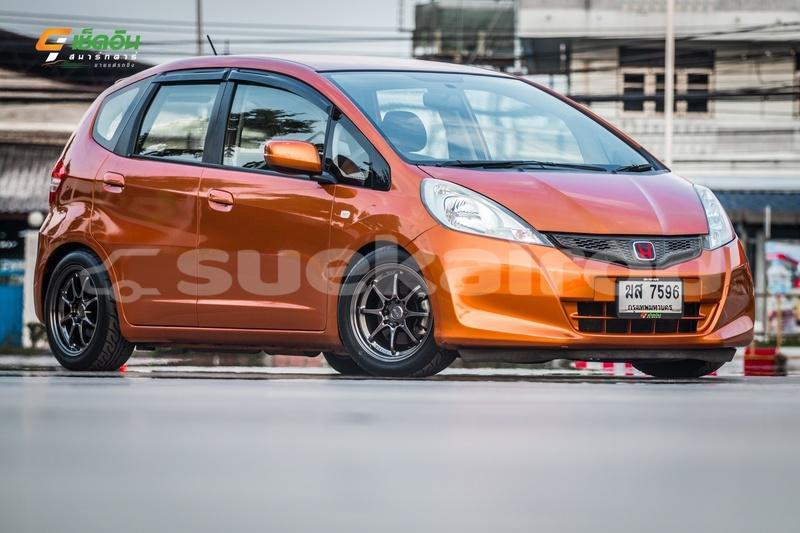Hatchback: (25, 46, 759, 396)
